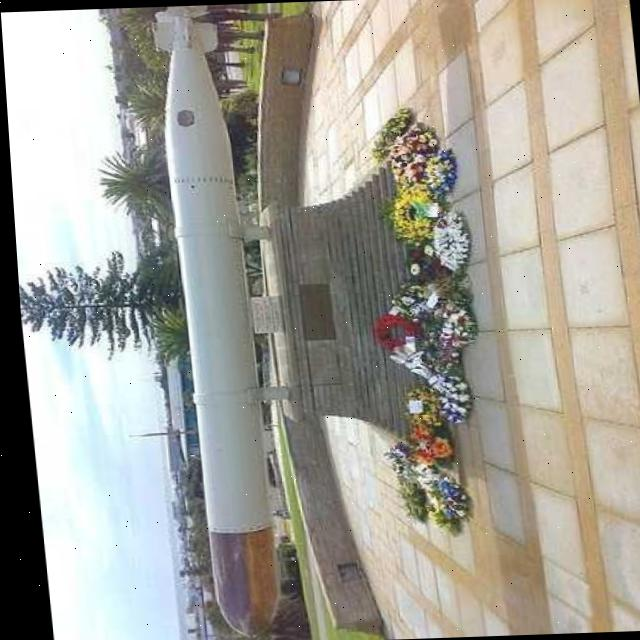missile: (145, 2, 287, 640)
